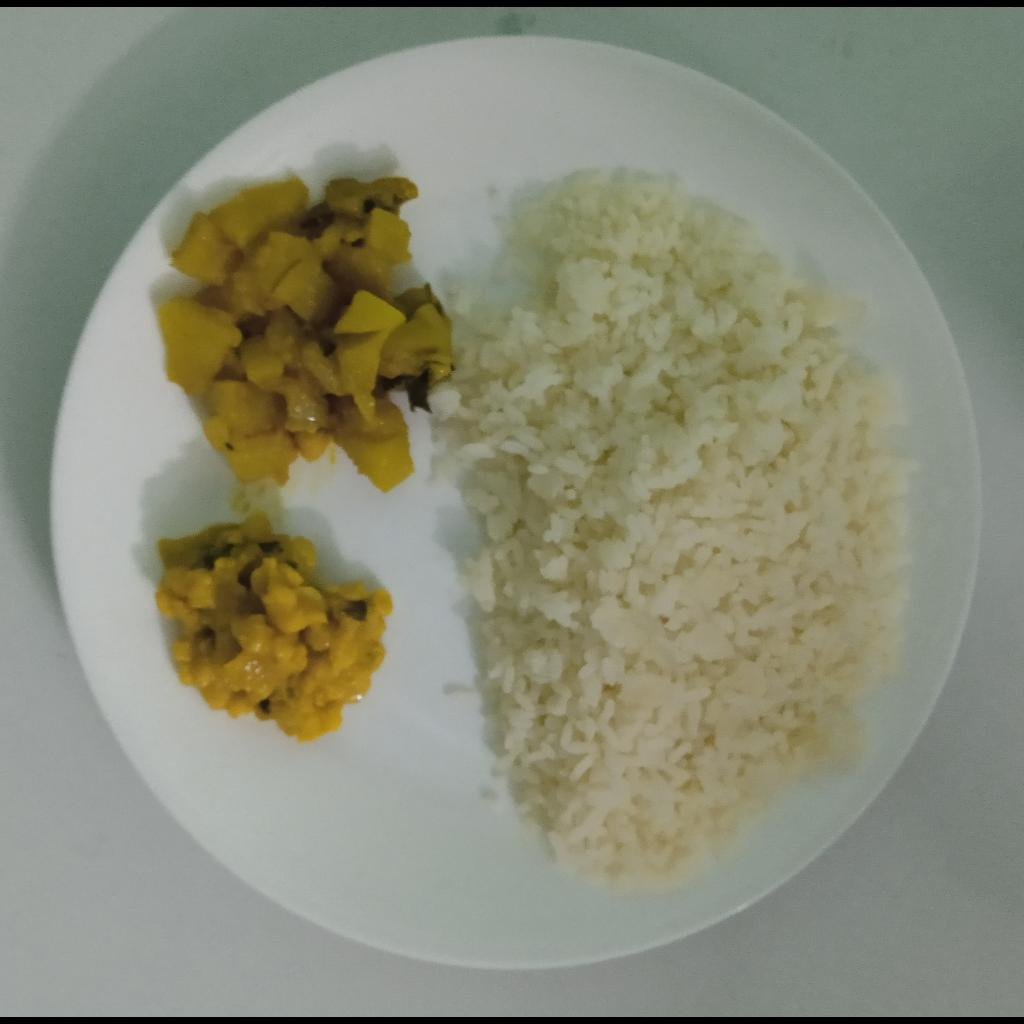daal: (155, 513, 395, 741)
kumra-vaji: (156, 174, 456, 487)
rice: (430, 169, 911, 888)
